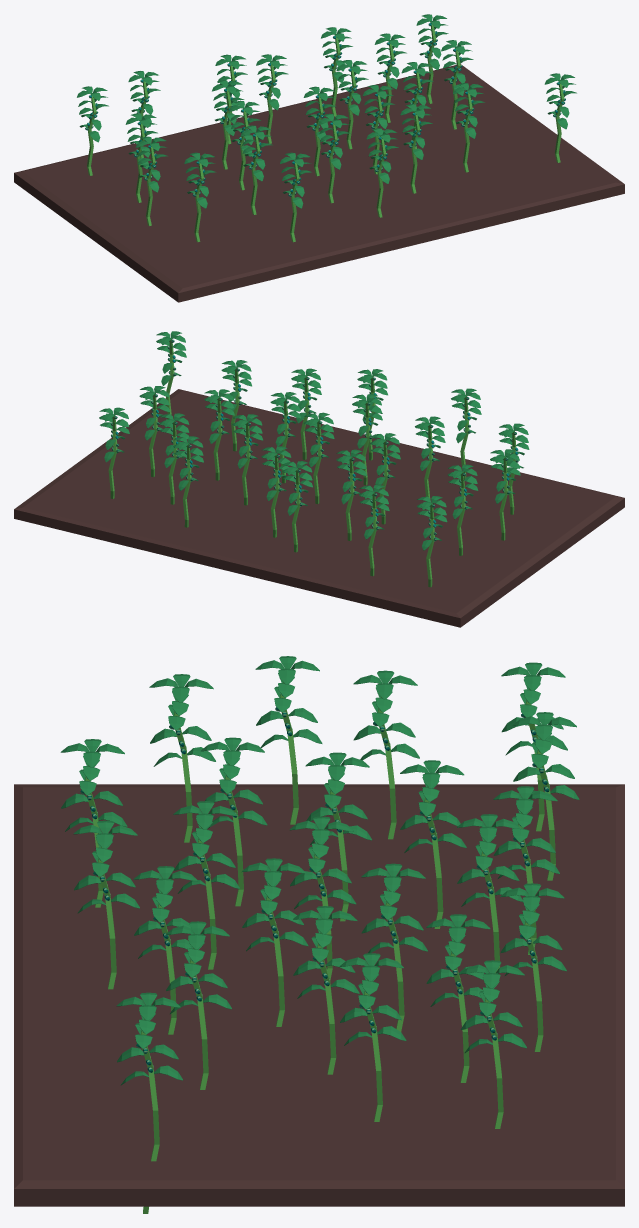
Rendered from ajonjoli grande conjunto.fbx.
3 renders of one model, top to bottom at view 1: azimuth 30°, elevation 25°; view 2: azimuth 150°, elevation 25°; view 3: azimuth 270°, elevation 25°, orthographic. The views are drawn at different scales.
Visible parts, largest first — view 1: Cube.002, Cube.001; view 2: Cube.002, Cube.001; view 3: Cube.002, Cube.001.
Part boxes in pixels (x1=…): Cube.002: x1=14, y1=64, x2=624, y2=302; Cube.001: x1=77, y1=14, x2=576, y2=242; Cube.002: x1=14, y1=389, x2=624, y2=627; Cube.001: x1=99, y1=331, x2=529, y2=587; Cube.002: x1=14, y1=784, x2=624, y2=1206; Cube.001: x1=60, y1=656, x2=579, y2=1213.
Bounding box in the file's own units: 4424 × 1087 × 2823.
